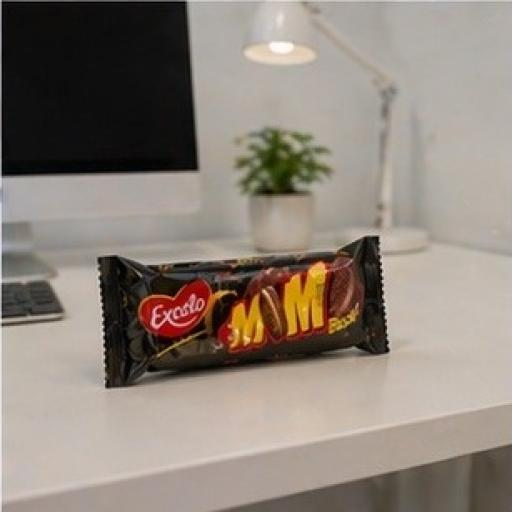MOMO: (50, 210, 440, 420)
